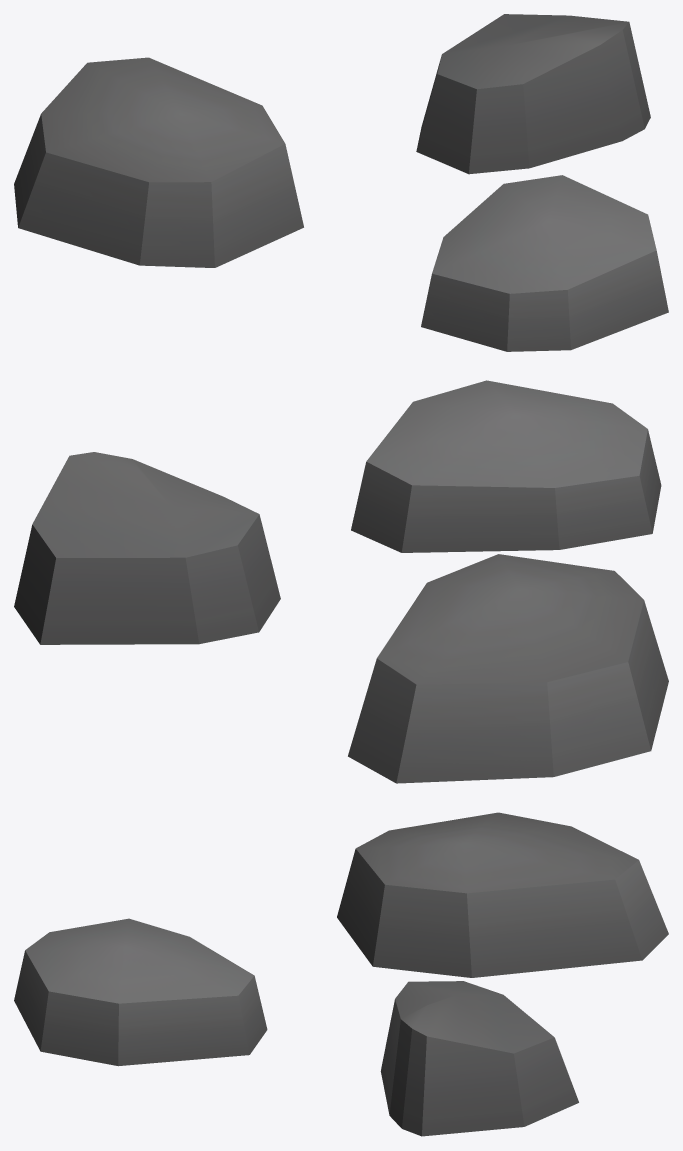
File: Rocks_A_2.fbx
The picture shows the model from 3 angles, top to bottom: view 1: azimuth 30°, elevation 25°; view 2: azimuth 150°, elevation 25°; view 3: azimuth 270°, elevation 25°; orthographic projection. The views are drawn at different scales.
Visible parts, largest first — view 1: Rocks_A_2; view 2: Rocks_A_2; view 3: Rocks_A_2.
Boxes of the visible parts, x1=… form: Rocks_A_2: x1=14, y1=14, x2=668, y2=351; Rocks_A_2: x1=14, y1=380, x2=668, y2=783; Rocks_A_2: x1=14, y1=812, x2=668, y2=1136.
Bounding box in the file's own units: 144 × 23.45 × 149.
